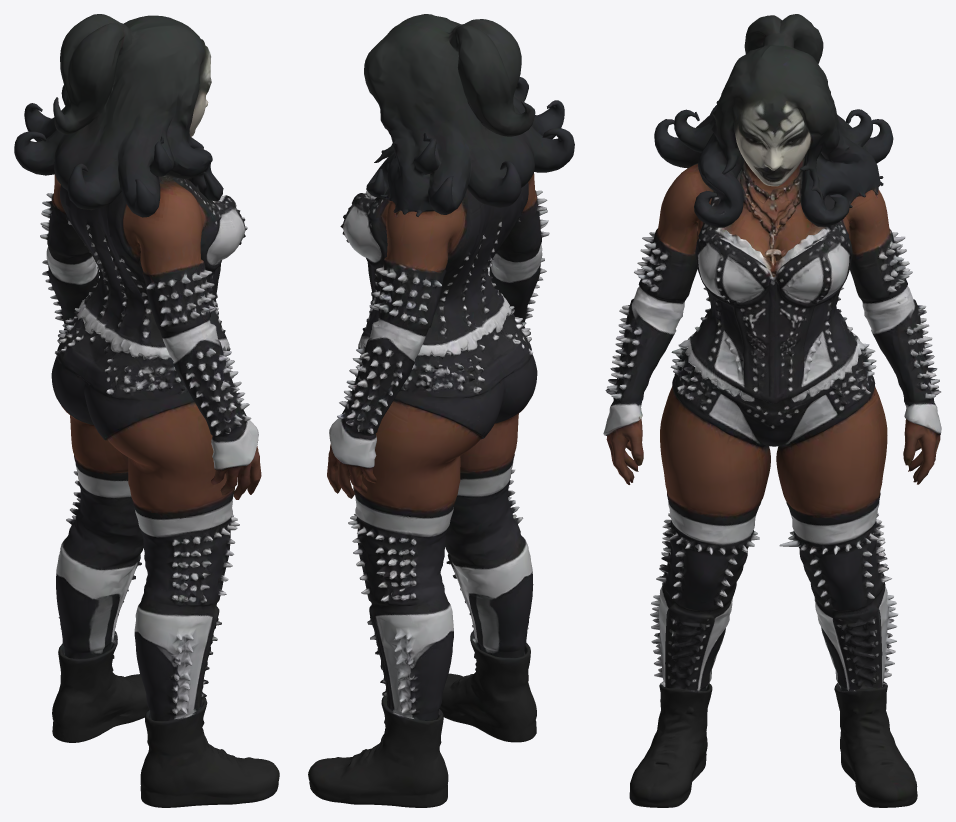
The model's file is ONYX_corset.glb.
3 views of the same model, side by side, from view 1: azimuth 30°, elevation 25°; view 2: azimuth 150°, elevation 25°; view 3: azimuth 270°, elevation 25° (orthographic).
Visible parts, largest first — view 1: tripo_node_7079dc00-4884-405e-b748-e7488c339d4c; view 2: tripo_node_7079dc00-4884-405e-b748-e7488c339d4c; view 3: tripo_node_7079dc00-4884-405e-b748-e7488c339d4c.
Part boxes in pixels (x1,y1,x2,y2): tripo_node_7079dc00-4884-405e-b748-e7488c339d4c: (14,14,279,807); tripo_node_7079dc00-4884-405e-b748-e7488c339d4c: (308,14,574,807); tripo_node_7079dc00-4884-405e-b748-e7488c339d4c: (603,14,941,807).
Size of the model in its own units: 0.2511 by 1 by 0.412.
1 material, 1 textured.
